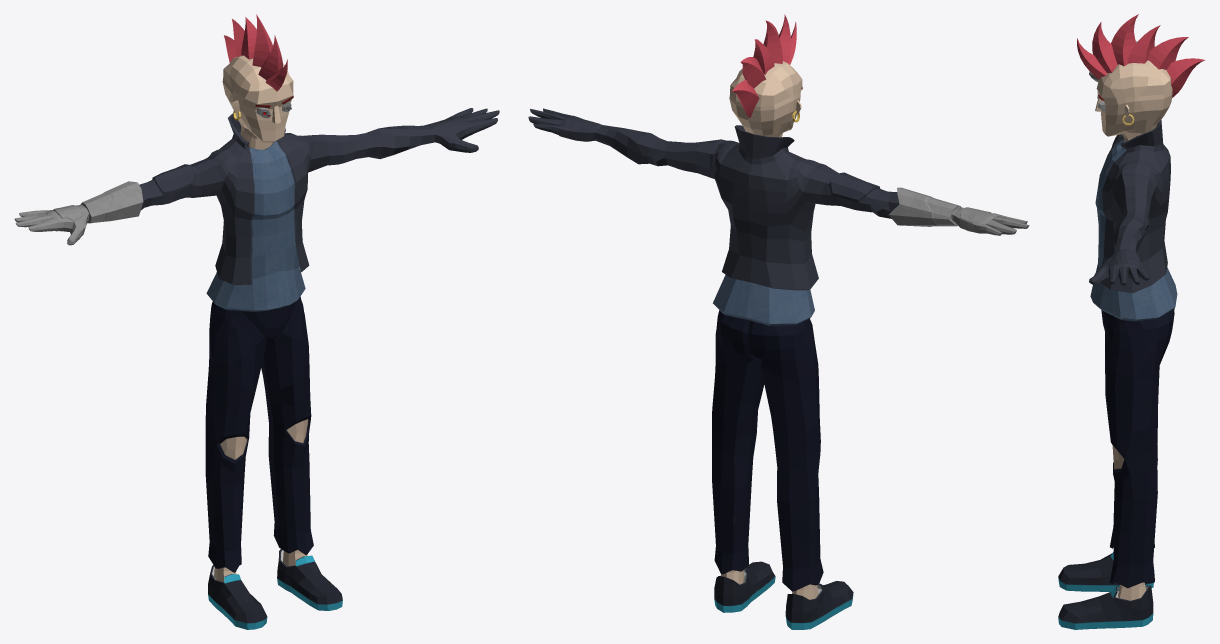
File: Cyberpunk characters moedels1.fbx
3 views of the same model, side by side, from view 1: azimuth 30°, elevation 25°; view 2: azimuth 150°, elevation 25°; view 3: azimuth 270°, elevation 25° (orthographic). The views are drawn at different scales.
Parts seen in each view (by area): view 1: Cyberpunk_characters1; view 2: Cyberpunk_characters1; view 3: Cyberpunk_characters1.
Boxes of the visible parts, bbox=[...] form: Cyberpunk_characters1: bbox=[14, 14, 499, 629]; Cyberpunk_characters1: bbox=[528, 14, 1029, 629]; Cyberpunk_characters1: bbox=[1058, 14, 1205, 629].
Bounding box in the file's own units: 172 × 197 × 44.62.
